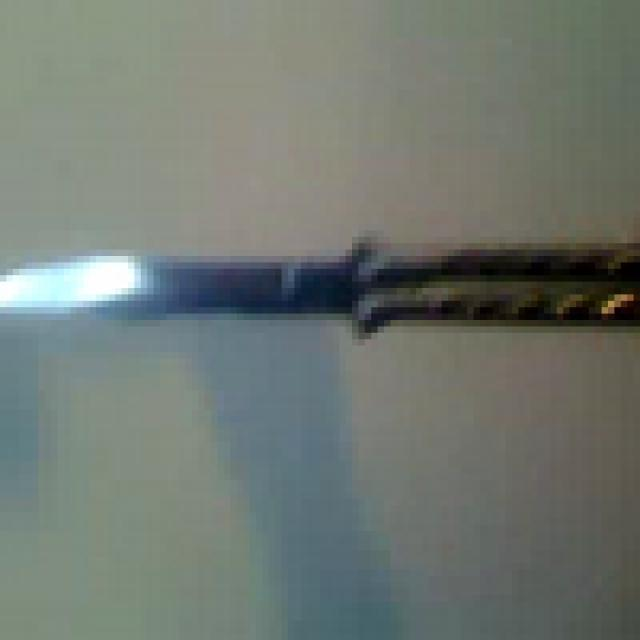knife: (0, 211, 634, 429)
